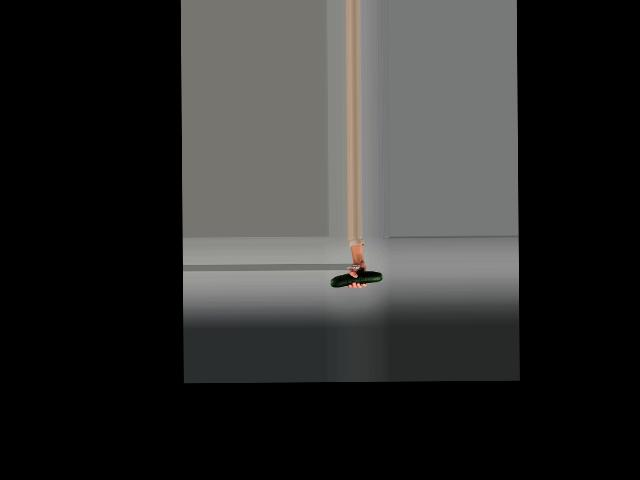cucumber: (330, 271, 381, 287)
